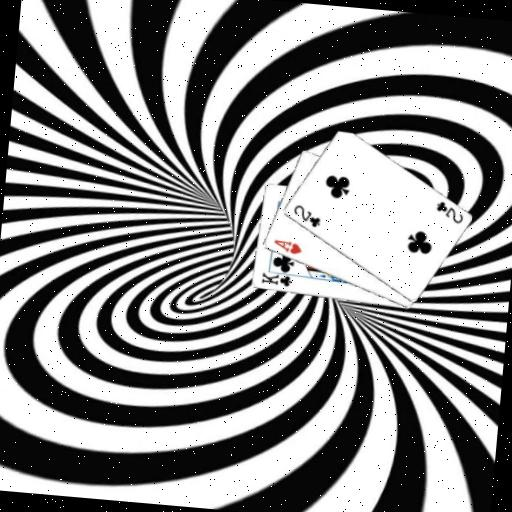2C: (289, 201, 323, 229), (432, 198, 466, 226)
AH: (270, 236, 304, 257)
KC: (258, 267, 297, 289)
